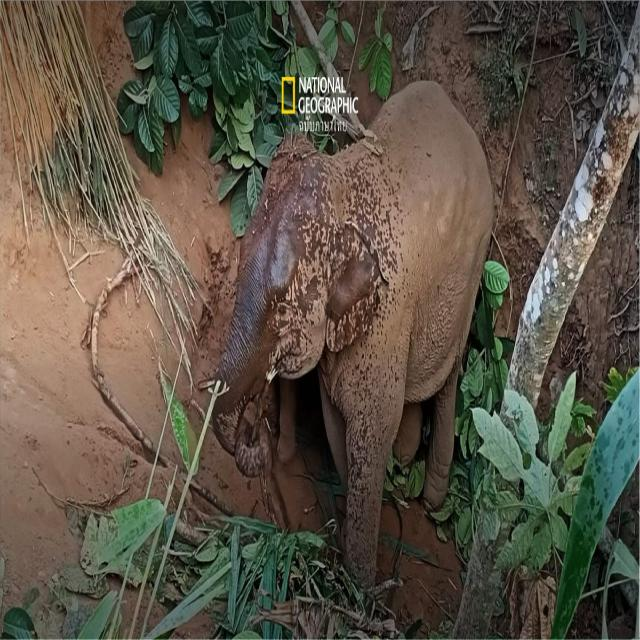Elephant: (215, 81, 498, 552)
